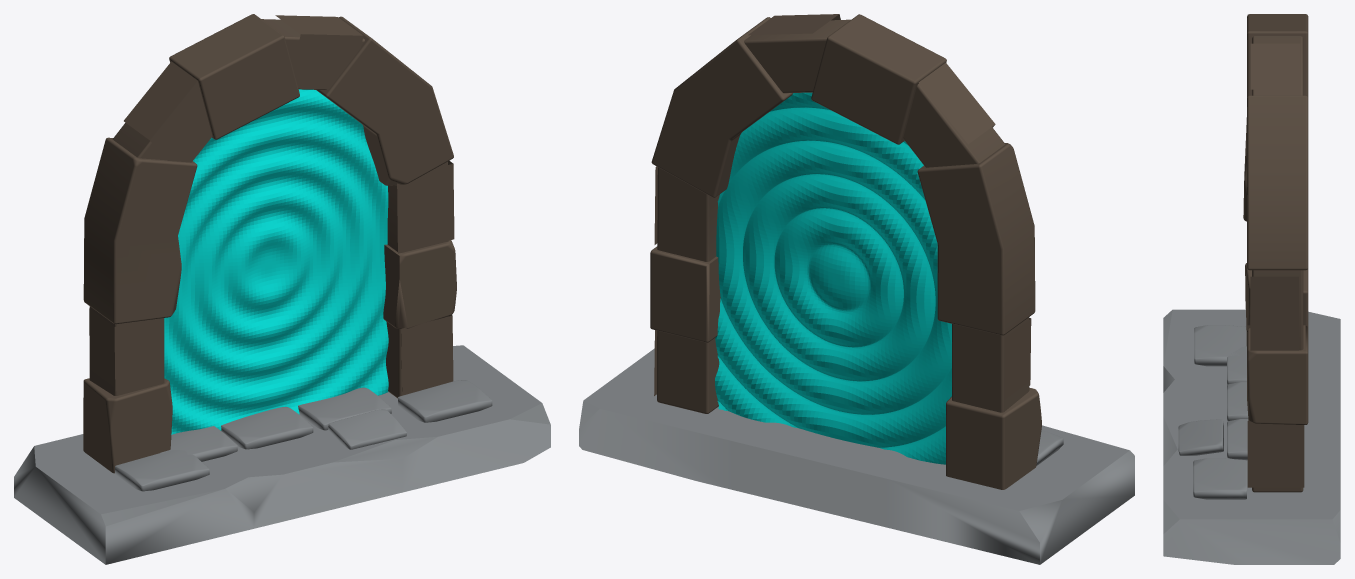
Rendered from portal.fbx.
3 views of the same model, side by side, from view 1: azimuth 30°, elevation 25°; view 2: azimuth 150°, elevation 25°; view 3: azimuth 270°, elevation 25° (orthographic). The views are drawn at different scales.
Parts seen in each view (by area): view 1: Plane.002, Plane.001, Plane, Plane.003, Plane.004, Cube, Cube.006, Cube.003, Cube.005, Cube.004, Cube.001; view 2: Plane.001, Plane.002, Plane, Plane.003, Plane.004; view 3: Plane, Plane.001, Plane.003, Cube, Cube.006, Cube.005, Cube.004, Cube.003, Cube.001.
Boxes of the visible parts, x1,y1,x2,y2 form: Plane.002: [164, 89, 388, 434]; Plane.001: [83, 14, 456, 473]; Plane: [14, 345, 550, 564]; Plane.003: [89, 15, 454, 395]; Plane.004: [124, 61, 212, 162]; Cube: [398, 380, 492, 422]; Cube.006: [115, 450, 209, 491]; Cube.003: [221, 406, 313, 449]; Cube.005: [328, 409, 406, 449]; Cube.004: [298, 387, 391, 430]; Cube.001: [160, 426, 237, 461]; Plane.001: [650, 14, 1041, 489]; Plane.002: [715, 92, 951, 464]; Plane: [579, 348, 1134, 564]; Plane.003: [654, 14, 1031, 400]; Plane.004: [918, 63, 995, 144]; Plane: [1163, 309, 1340, 564]; Plane.001: [1243, 14, 1308, 492]; Plane.003: [1247, 43, 1304, 487]; Cube: [1193, 458, 1246, 499]; Cube.006: [1194, 325, 1246, 366]; Cube.005: [1178, 419, 1223, 455]; Cube.004: [1227, 418, 1248, 460]; Cube.003: [1227, 382, 1248, 420]; Cube.001: [1227, 346, 1246, 384].
Size of the model in its own units: 561 by 534 by 200.
